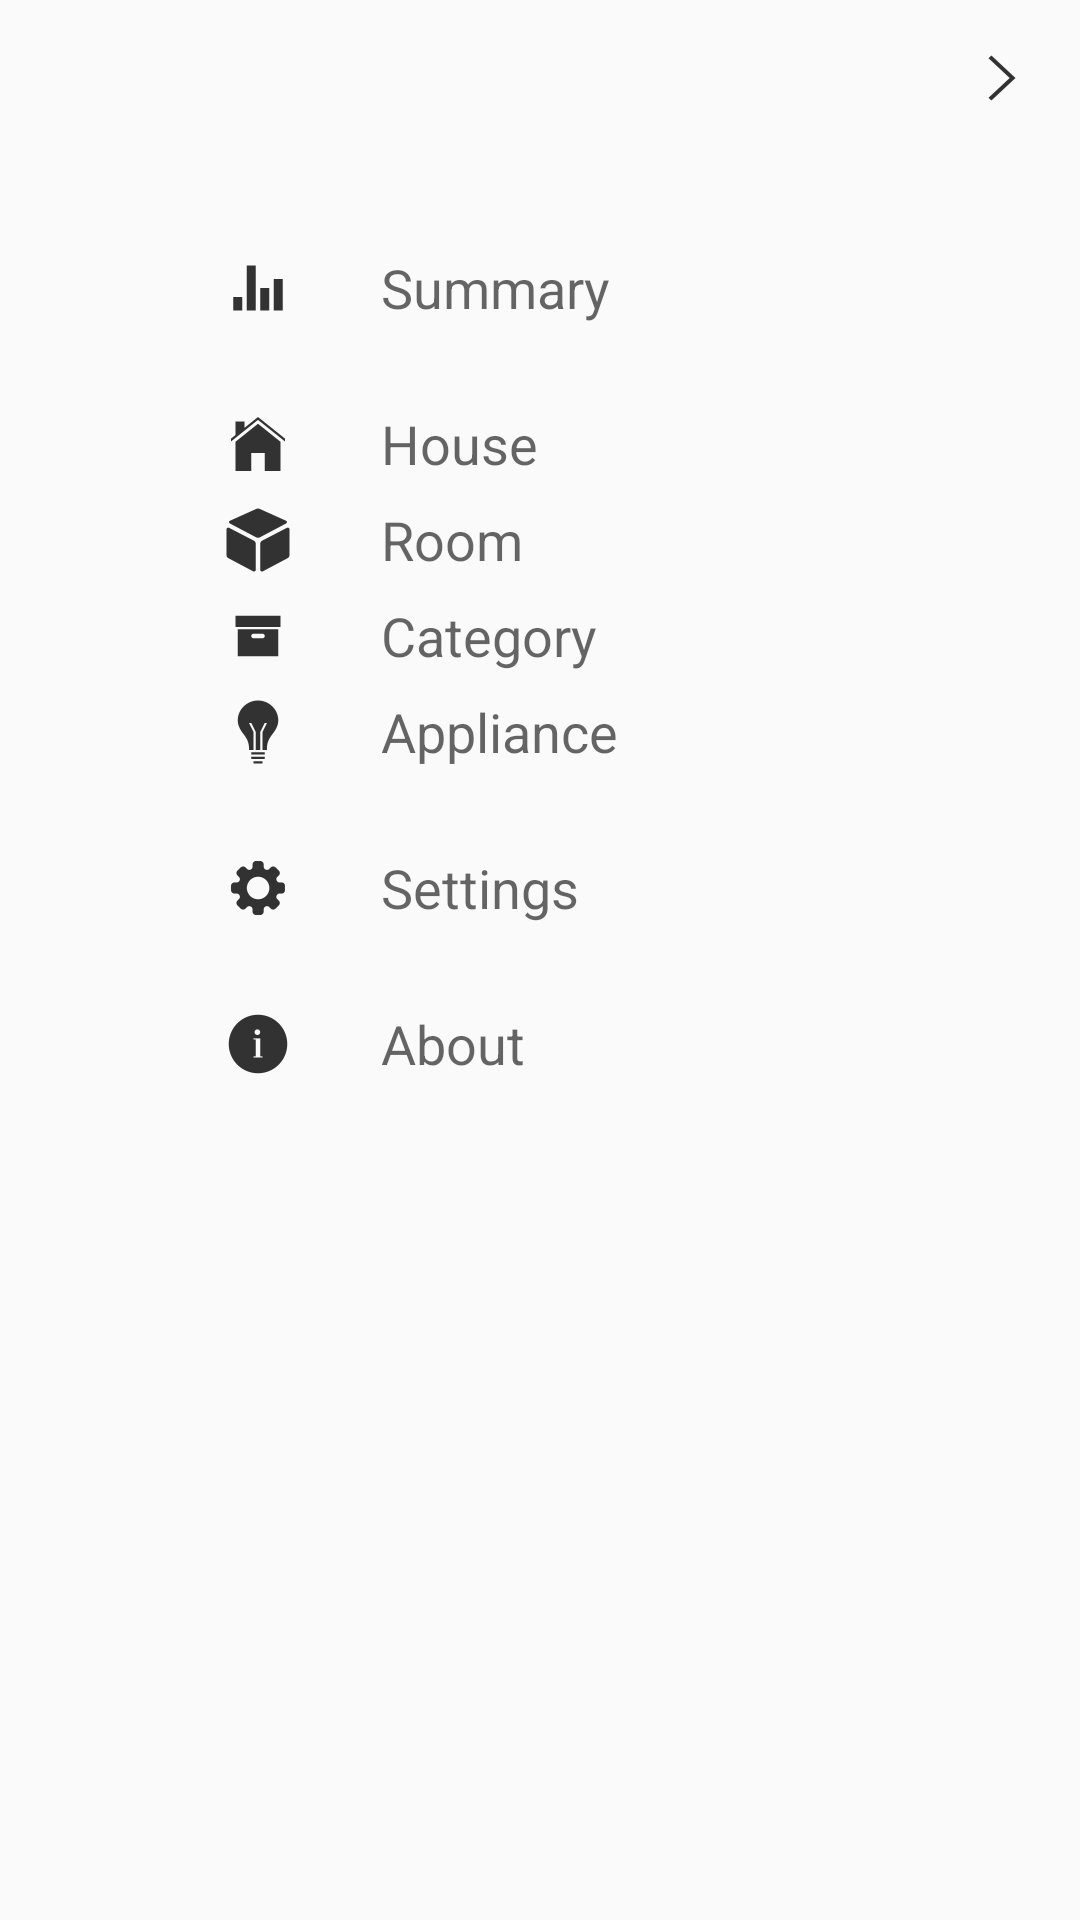

Icon bounding boxes for this 1080*1920 phone screenshot, format [x1=x1, y1=y1, x2=x2, y2=y2]:
arrow right: [x1=988, y1=55, x2=1015, y2=101]
